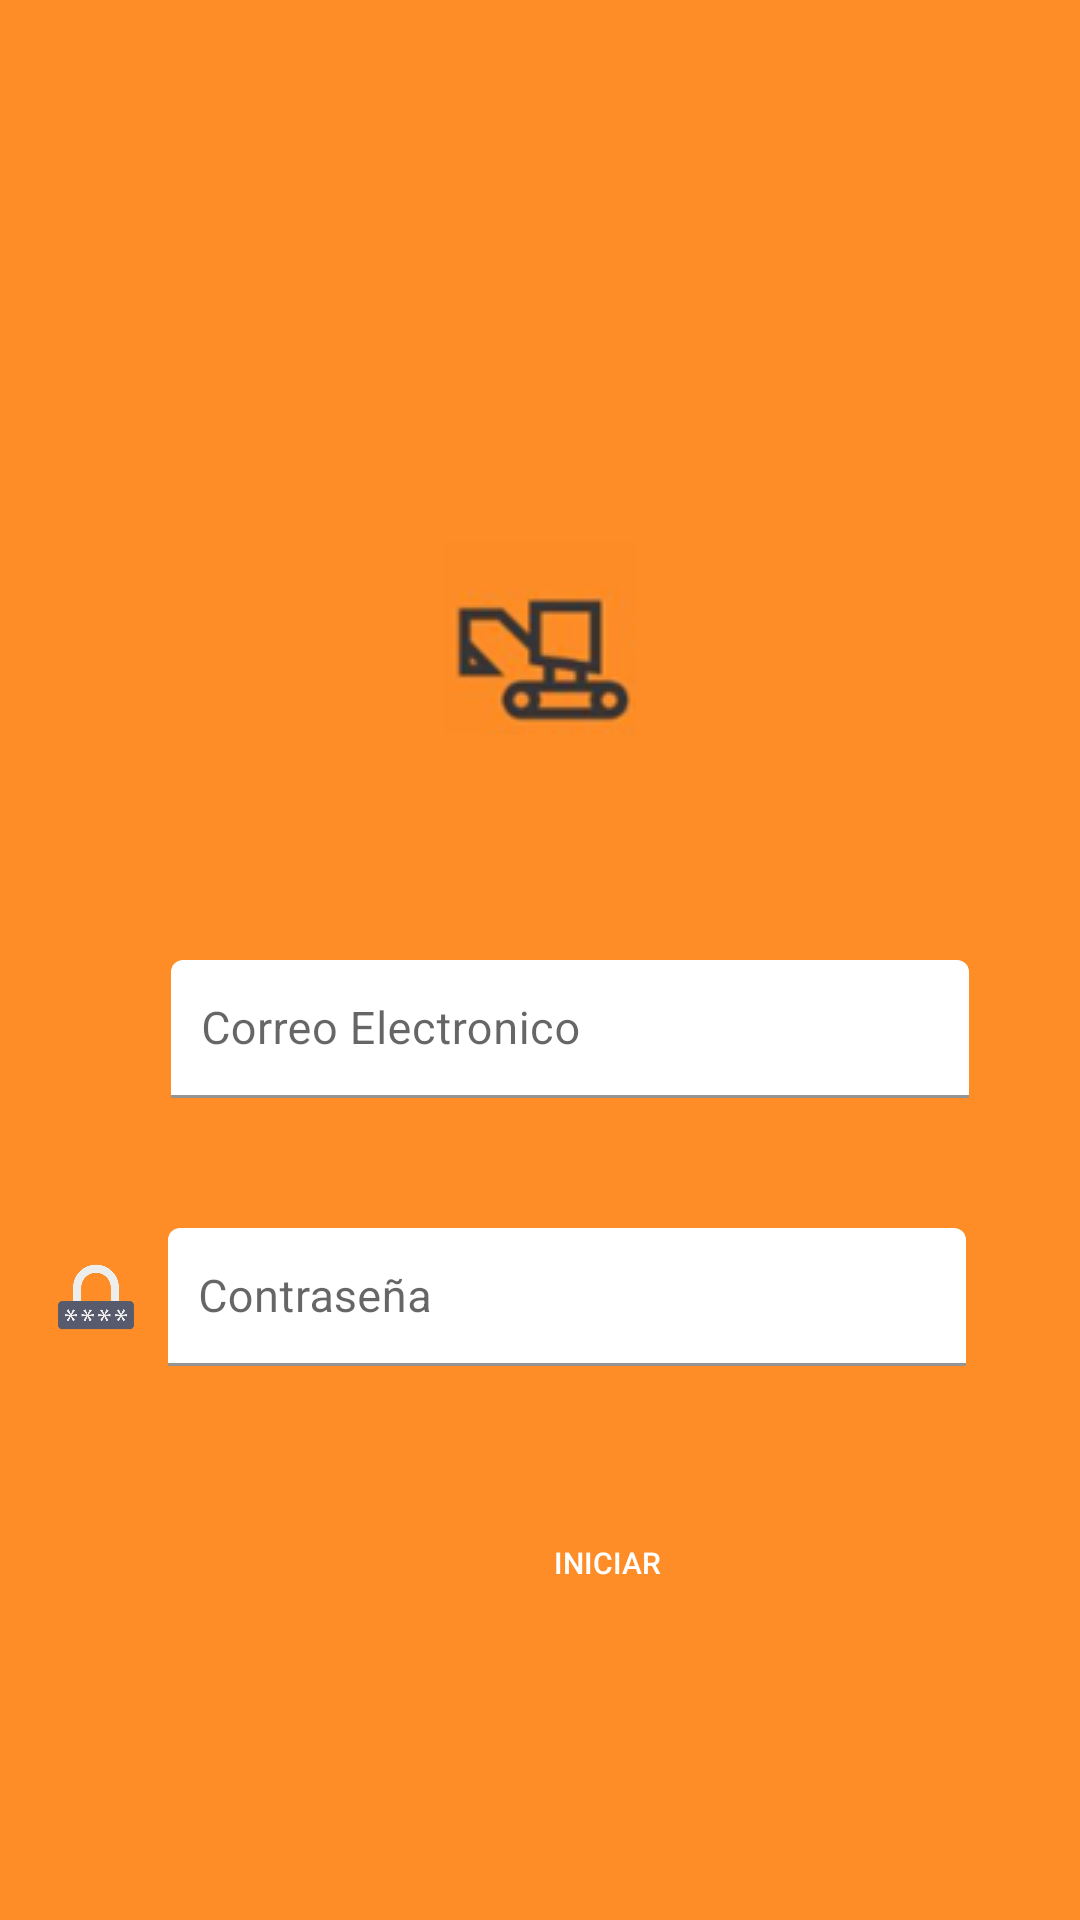

Where to tap for icons on this 1080 × 1920 app screen, as point (x, y):
password: point (96, 1297)
